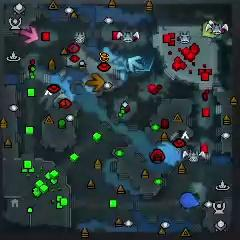p1: (180, 191, 199, 208)
x1: (19, 25, 39, 44)
x2: (202, 21, 215, 38)
x3: (127, 55, 143, 72)
x5: (87, 73, 105, 92)
